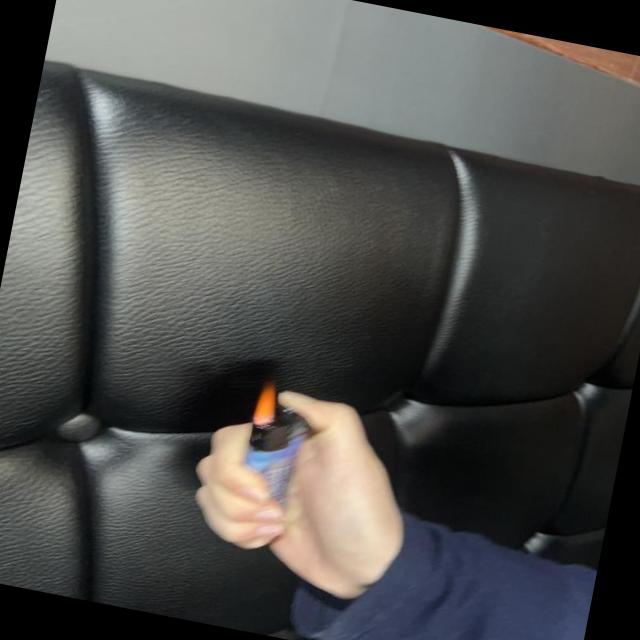Fire: (251, 381, 281, 426)
